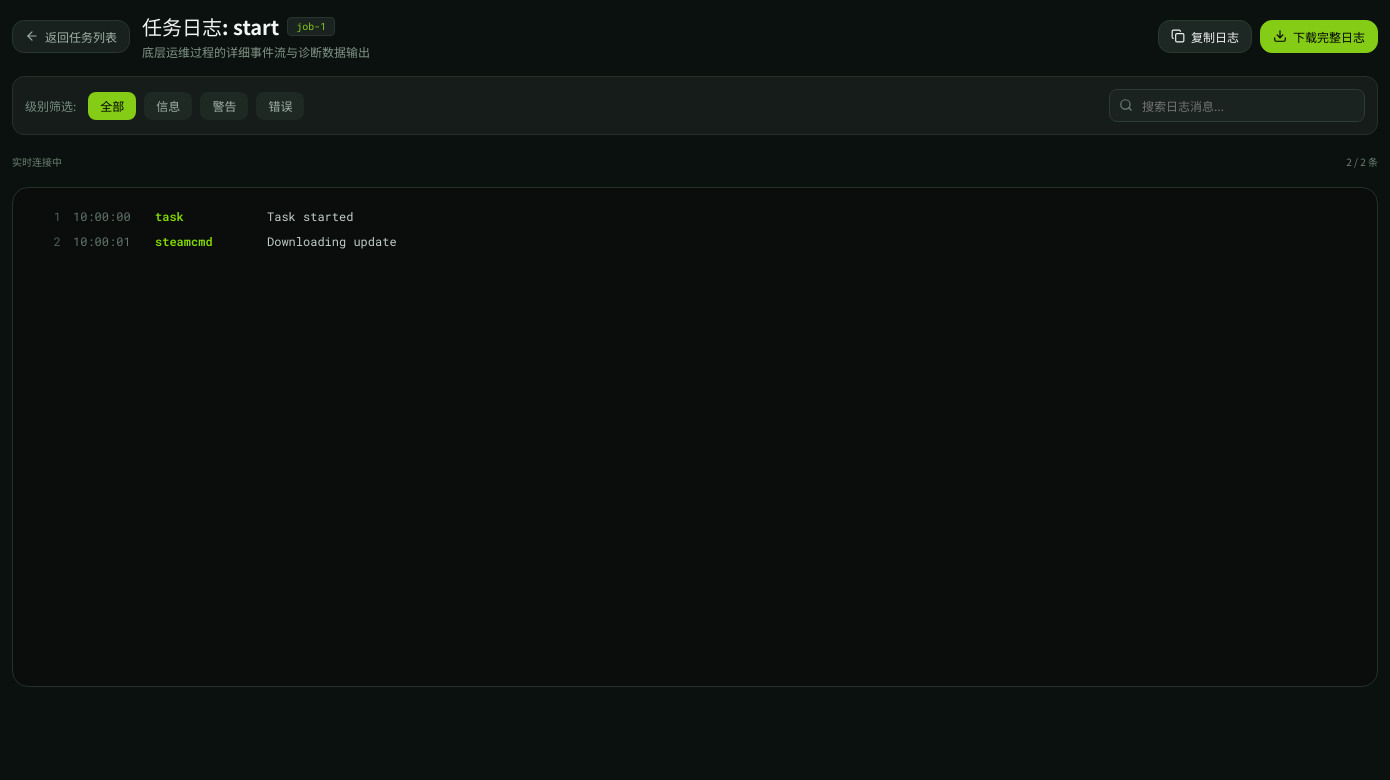
Test: JobLogsPage › loads history, filters it, and appends live records
Expected: the text "Downloading update" is shown, [267,233,397,249]
Type "started" into the field named "搜索任务日志" at point(1237, 106), box [1109,89,1365,122]
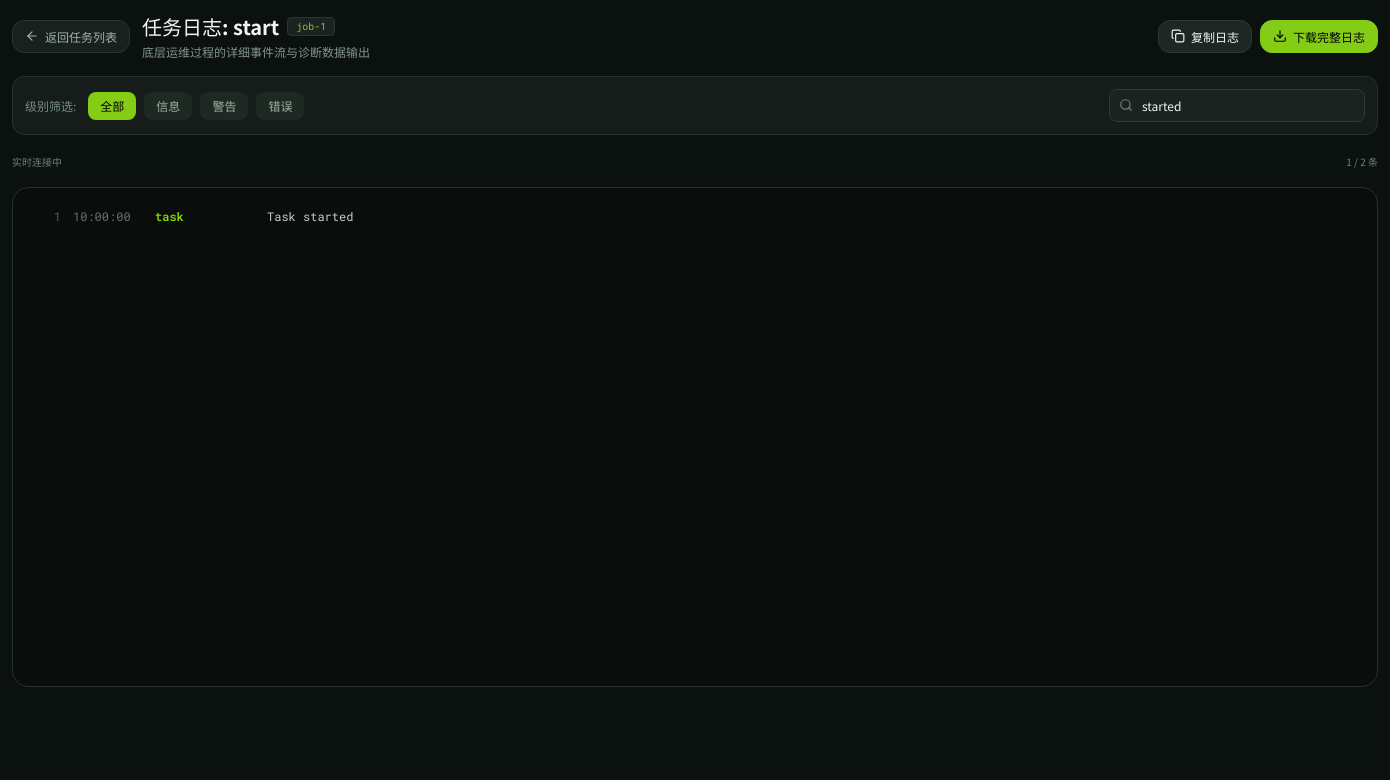
Expected: the text "Task started" is shown, [267,208,353,224]
Expected: the text "Downloading update" is gone
Clear the field named "搜索任务日志" at point(1237, 106), box [1109,89,1365,122]
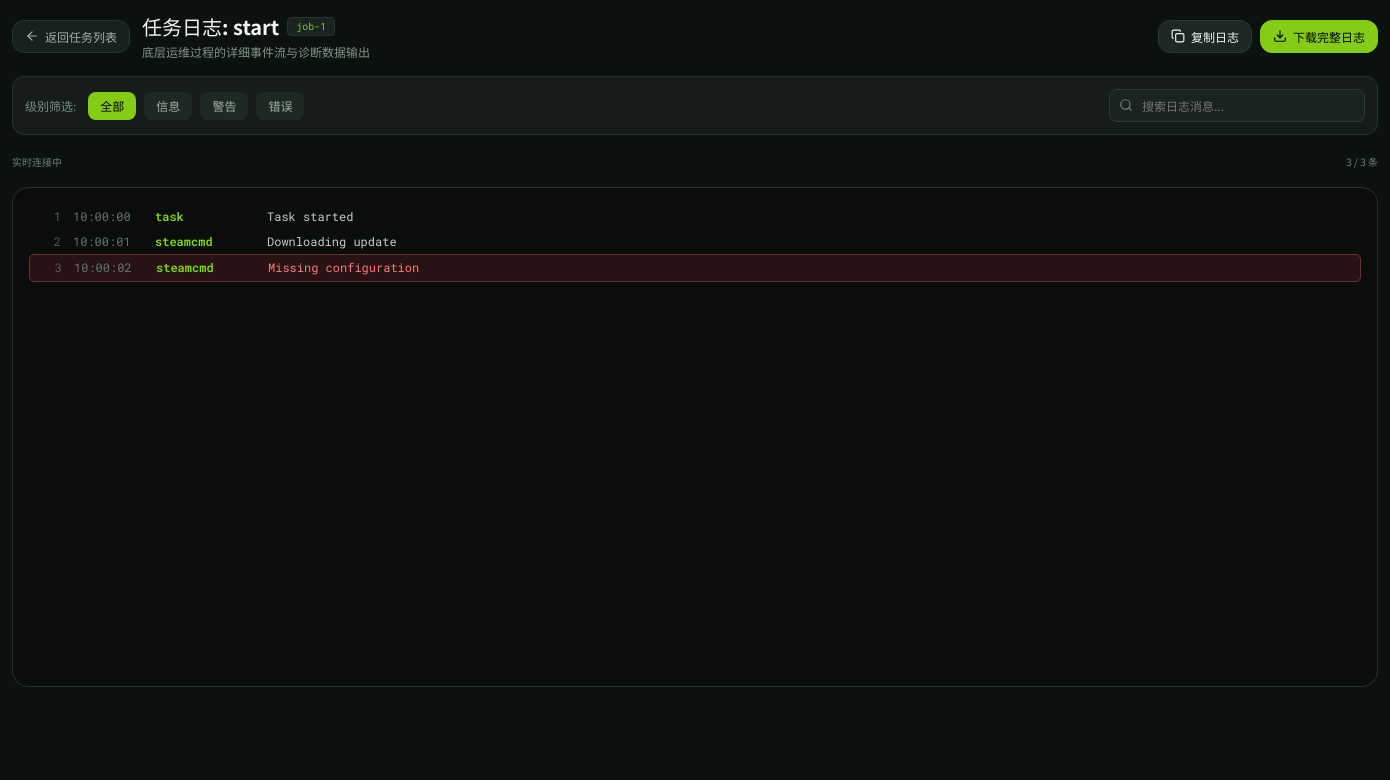
Expected: the text "Missing configuration" is shown, [268,259,419,275]
